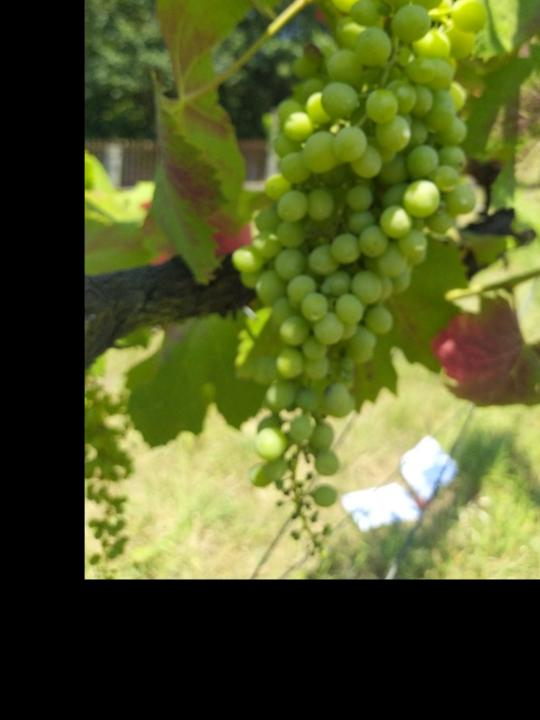grape: (227, 0, 485, 575)
